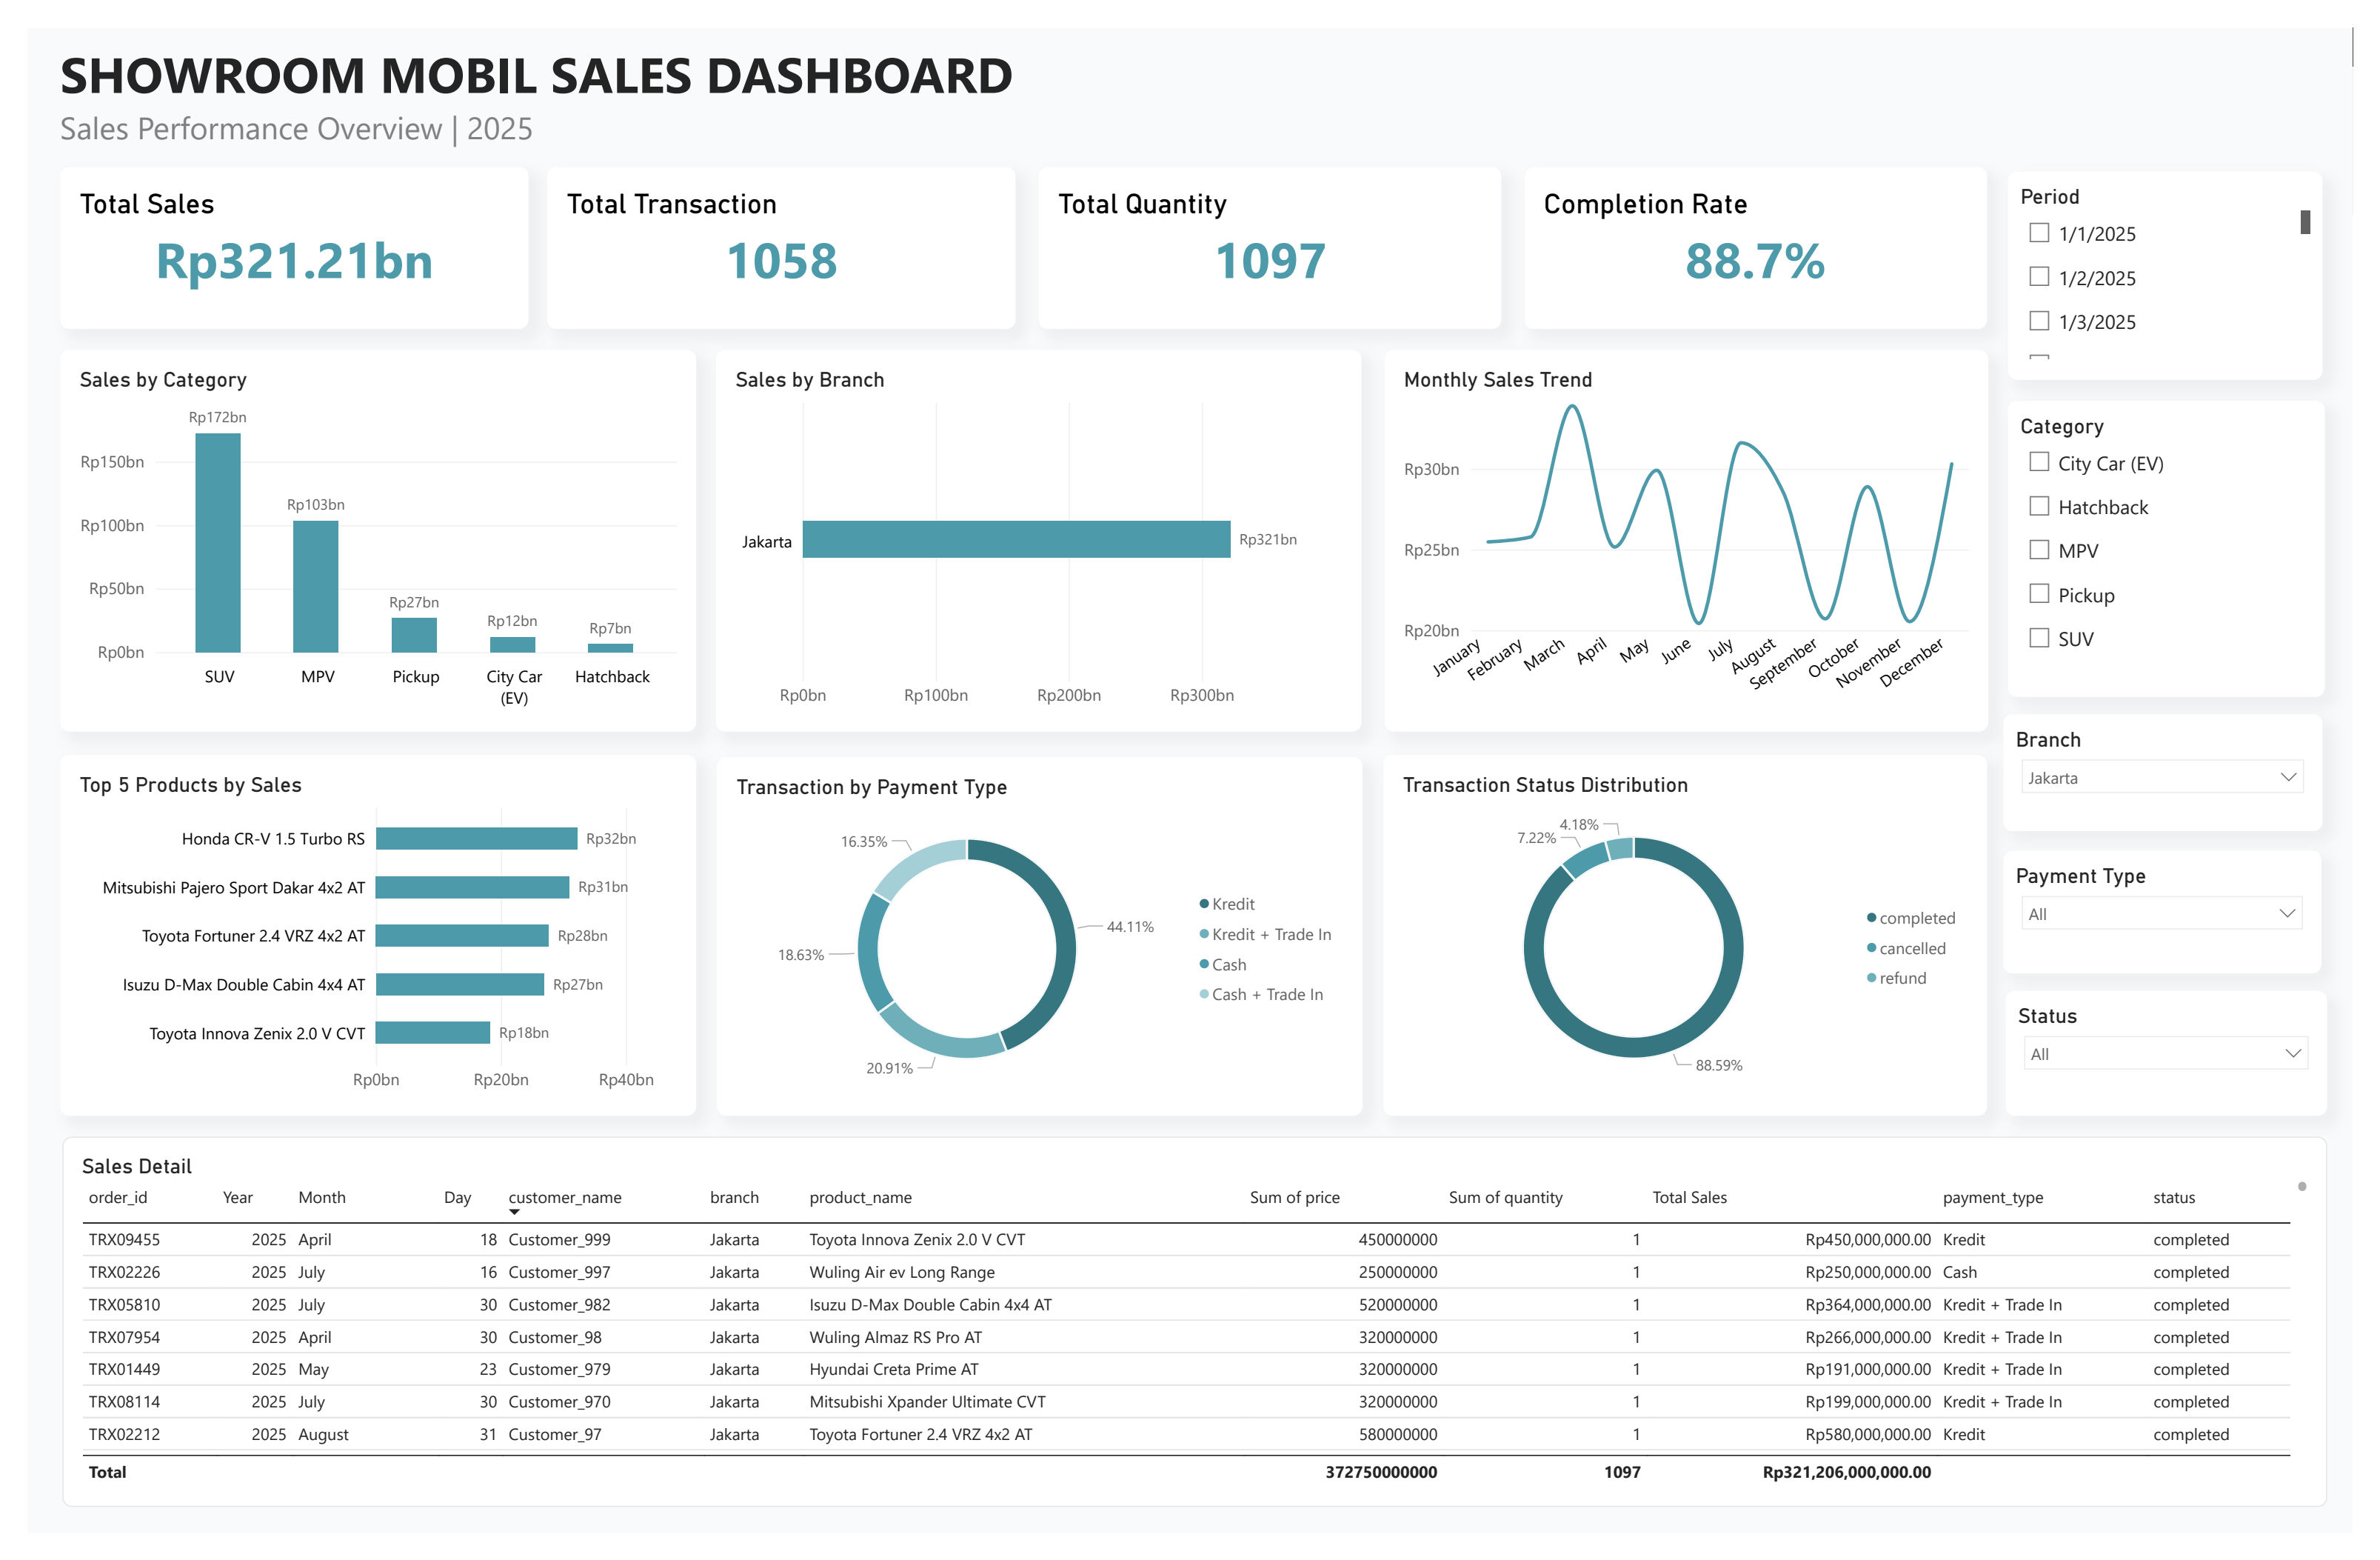

Layout of this report page (visuals, bound fields, positions):
{"tool":"powerbi","page":{"name":"Page 1","canvas":[2010,1300],"ordinal":0},"visuals":[{"type":"textbox","box":[27.5,0,1942.5,120],"z":0},{"type":"cardVisual","fields":{"Data":["Sales.Total Sales"]},"box":[27.5,120,405,140],"z":1000},{"type":"cardVisual","fields":{"Data":["Sales.Total Transaction"]},"box":[448.6,120,405,140],"z":2000},{"type":"cardVisual","fields":{"Data":["Sales.Total Quantity"]},"box":[873.6,120,400.7,140],"z":3000},{"type":"cardVisual","fields":{"Data":["Sales.Completion Rate"]},"box":[1293.6,120,400.7,140],"z":4000},{"type":"clusteredColumnChart","title":"Sales by Category","fields":{"Category":["Sales.category"],"Y":["Sales.Total Sales"]},"box":[28.3,278.3,550,330],"z":5000},{"type":"clusteredBarChart","title":"Sales by Branch","fields":{"Category":["Sales.branch"],"Y":["Sales.Total Sales"]},"box":[595,277.5,557.5,330],"z":6000},{"type":"clusteredBarChart","title":"Top 5 Products by Sales","fields":{"Category":["Sales.product_name"],"Y":["Sales.Total Sales"]},"box":[28,628,550,312],"z":7000},{"type":"lineChart","title":"Monthly Sales Trend","fields":{"Category":["Sales.sales_date.Variation.Date Hierarchy.Month"],"Y":["Sales.Total Sales"]},"box":[1172.5,277.5,522.5,330],"z":8000},{"type":"donutChart","title":"Transaction by Payment Type","fields":{"Category":["Sales.payment_type"],"Y":["Sales.Total Transaction"]},"box":[596,630,558,310],"z":9000},{"type":"donutChart","title":"Transaction Status Distribution","fields":{"Category":["Sales.status"],"Y":["Sales.Total Transaction"]},"box":[1172,628,522,312],"z":10000},{"type":"slicer","title":"Category","fields":{"Values":["Sales.category"]},"box":[1712,322,274,256],"z":11000},{"type":"slicer","title":"Branch","fields":{"Values":["Sales.branch"]},"box":[1707.8,592.9,276.7,101.1],"z":12000},{"type":"slicer","title":"Payment Type","fields":{"Values":["Sales.payment_type"]},"box":[1707.8,710.7,275.5,106.7],"z":13000},{"type":"slicer","title":"Period","fields":{"Values":["Sales.sales_date"]},"box":[1712.2,124.4,272.2,180],"z":14000},{"type":"slicer","title":"Status","fields":{"Values":["Sales.status"]},"box":[1710,832,278,108],"z":15000},{"type":"tableEx","title":"Sales Detail","fields":{"Values":["Sales.order_id","Sales.sales_date.Variation.Date Hierarchy.Year","Sales.sales_date.Variation.Date Hierarchy.Month","Sales.sales_date.Variation.Date Hierarchy.Day","Sales.customer_name","Sales.branch","Sales.product_name","Sum(Sales.price)","Sum(Sales.quantity)","Sales.Total Sales","Sales.payment_type","Sales.status"]},"box":[30,957.5,1957.5,320],"z":16000}]}

Visuals, with their boxes on the page's 2010x1300 design canvas (x1, y1, x2, y2). These are canvas units, not pixel positions in the 2380x1560 screenshot, which may show the page scaled, cropped or inside an application window:
textbox: <region>28, 0, 1970, 120</region>
cardVisual - Sales.Total Sales: <region>28, 120, 432, 260</region>
cardVisual - Sales.Total Transaction: <region>449, 120, 854, 260</region>
cardVisual - Sales.Total Quantity: <region>874, 120, 1274, 260</region>
cardVisual - Sales.Completion Rate: <region>1294, 120, 1694, 260</region>
"Sales by Category" clusteredColumnChart: <region>28, 278, 578, 608</region>
"Sales by Branch" clusteredBarChart: <region>595, 278, 1152, 608</region>
"Top 5 Products by Sales" clusteredBarChart: <region>28, 628, 578, 940</region>
"Monthly Sales Trend" lineChart: <region>1172, 278, 1695, 608</region>
"Transaction by Payment Type" donutChart: <region>596, 630, 1154, 940</region>
"Transaction Status Distribution" donutChart: <region>1172, 628, 1694, 940</region>
"Category" slicer: <region>1712, 322, 1986, 578</region>
"Branch" slicer: <region>1708, 593, 1984, 694</region>
"Payment Type" slicer: <region>1708, 711, 1983, 817</region>
"Period" slicer: <region>1712, 124, 1984, 304</region>
"Status" slicer: <region>1710, 832, 1988, 940</region>
"Sales Detail" tableEx: <region>30, 958, 1988, 1278</region>
